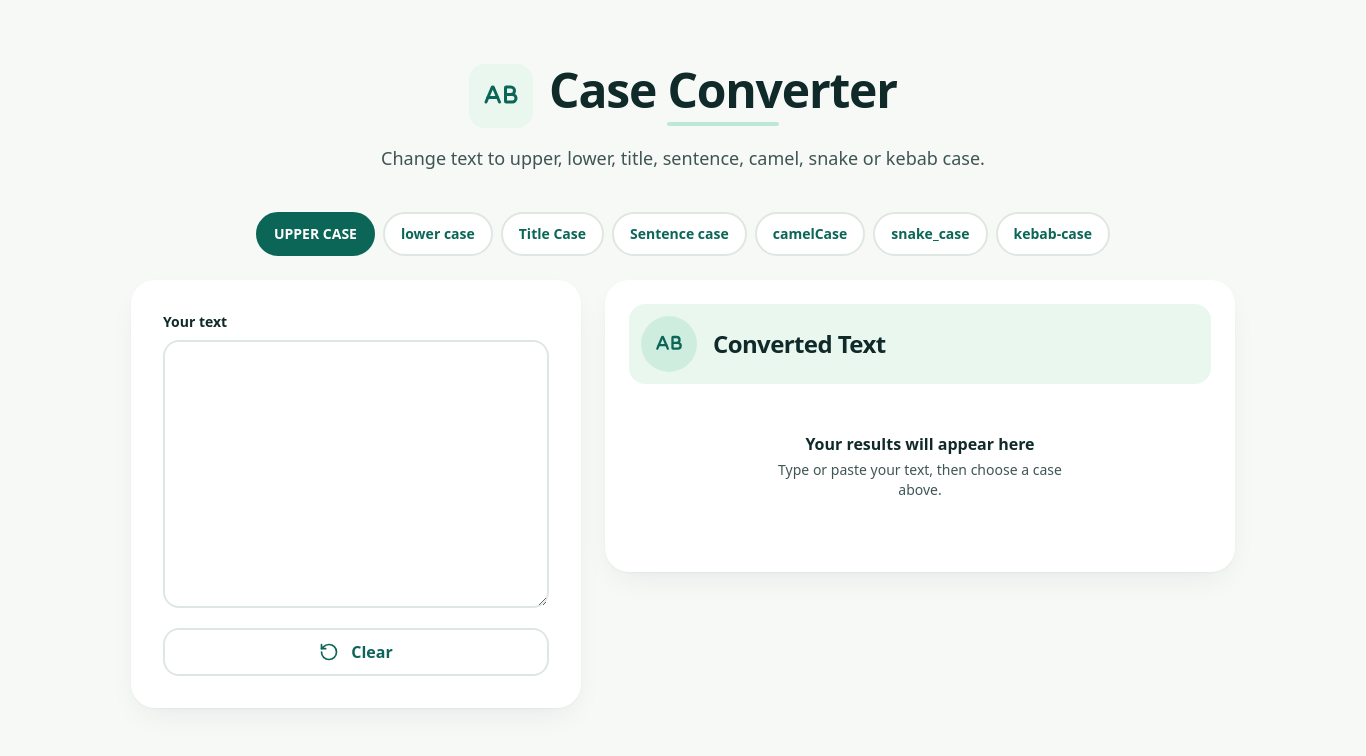
Scenario: Case Converter page › converts live and follows the chosen case
Type "hello world" into the text box labelled "Your text" at (356, 474), box [163,340,549,608]
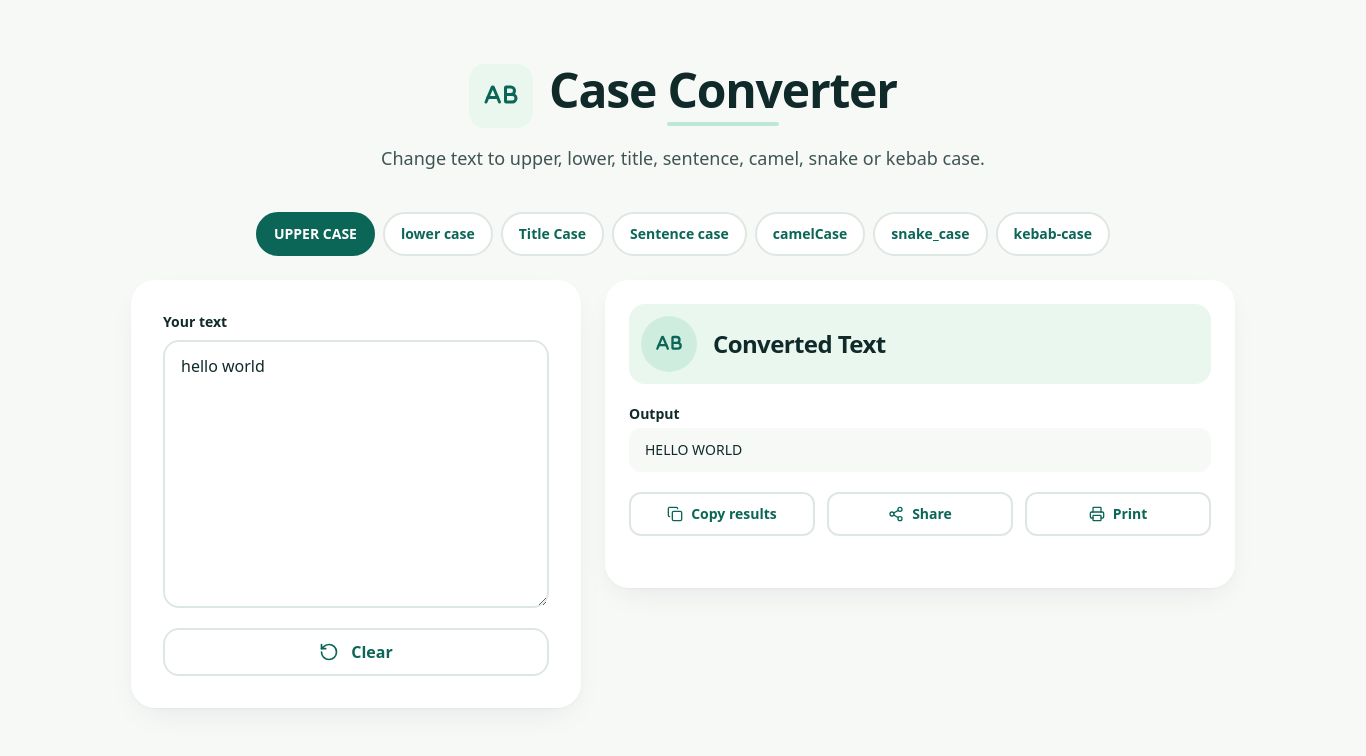
Check: the text named "Output" reads "HELLO WORLD", box [645,440,742,459]
Click the button "kebab-case" at (1053, 234), box [996,212,1110,256]
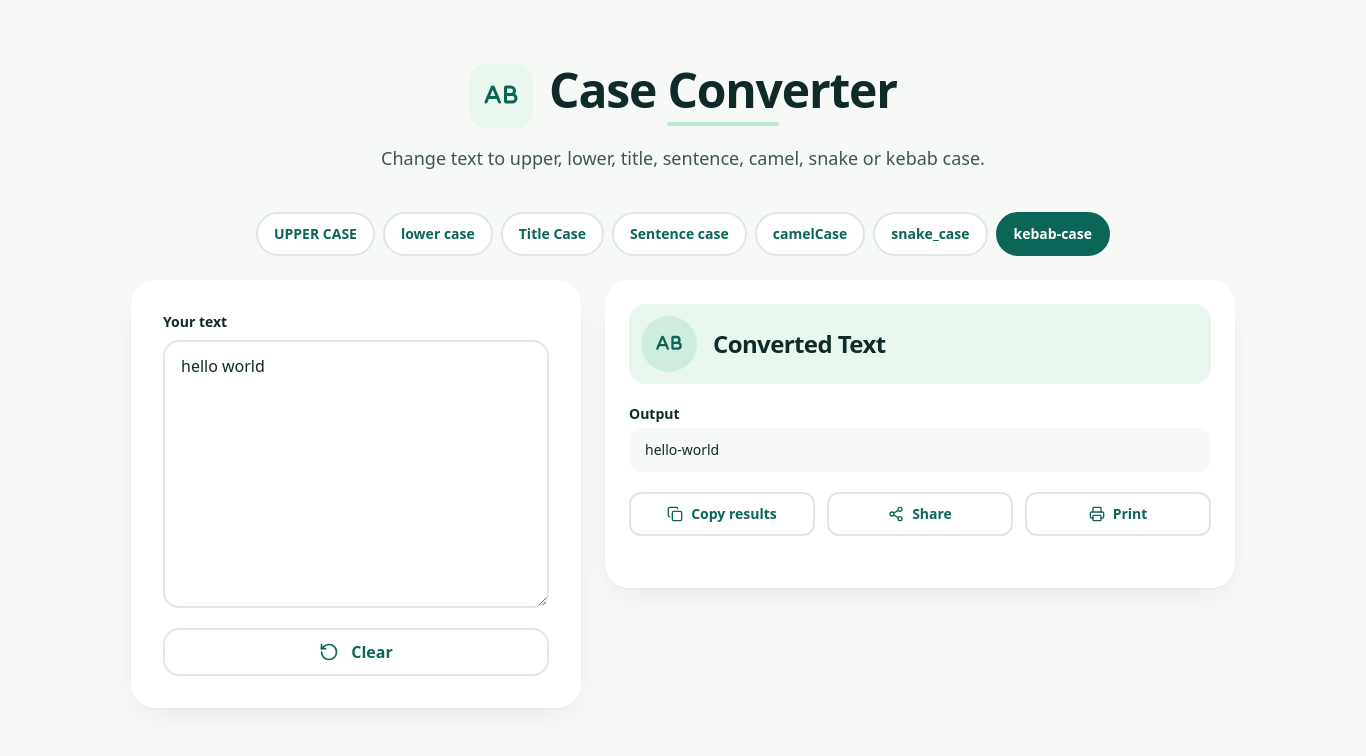
Check: the text named "Output" reads "hello-world", box [645,440,719,459]
